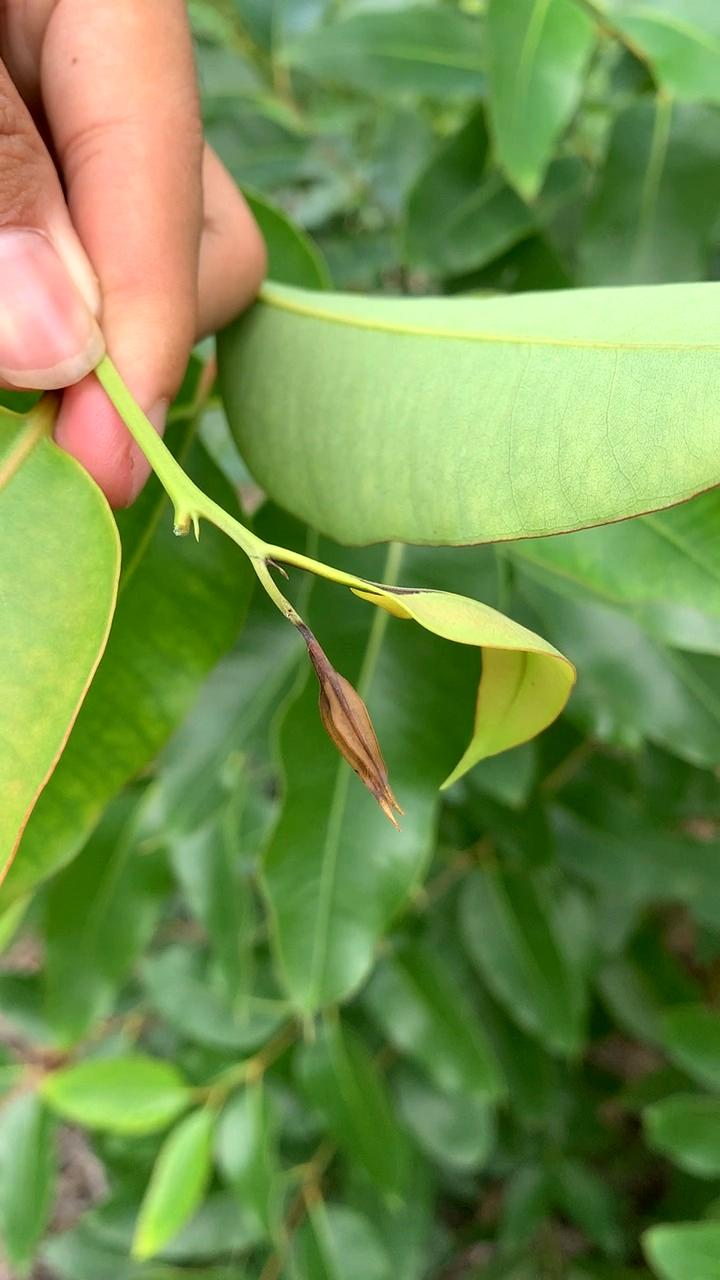Helopeltis-Withered Sprout: (310, 640, 411, 819)
